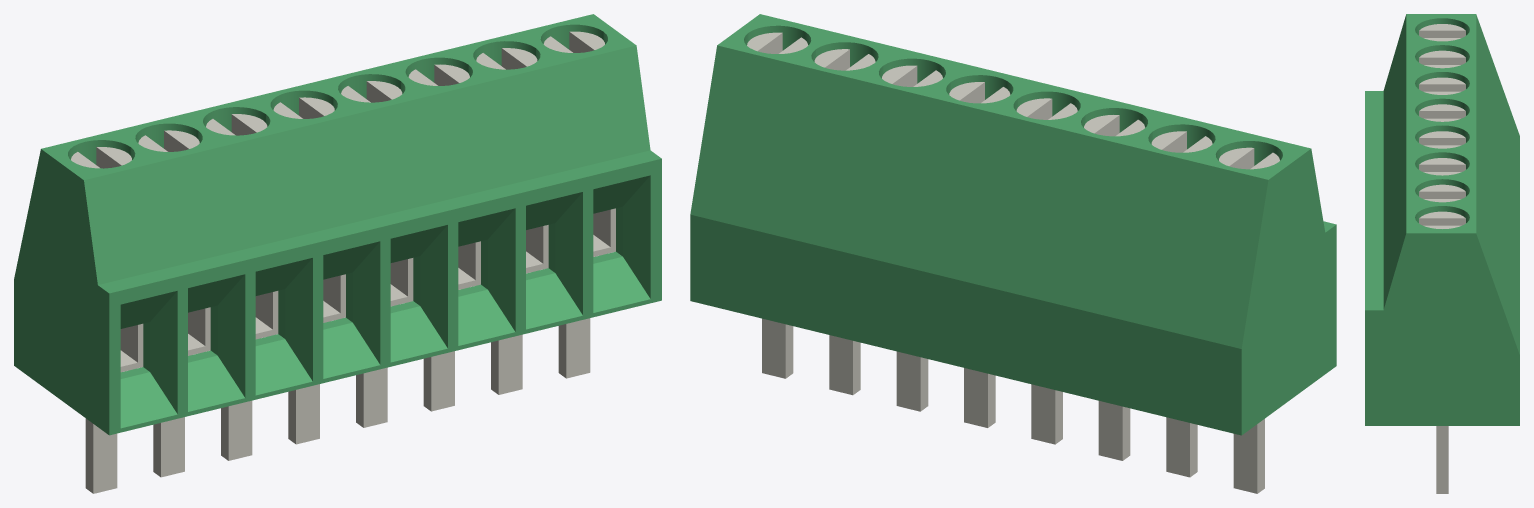
The model's file is kc-terminalblock_phoenix_mpt-0_5-8-2.54_1x08_p2.54mm_horizontal.glb.
The picture shows the model from 3 angles, left to right: view 1: azimuth 30°, elevation 25°; view 2: azimuth 150°, elevation 25°; view 3: azimuth 270°, elevation 25°; orthographic projection. The views are drawn at different scales.
Parts seen in each view (by area): view 1: 0.08333333333333333_0.4166666666666667_0.16666666666666666_0, 0.6666666666666666_0.6666666666666666_0.5833333333333334_0.8; view 2: 0.08333333333333333_0.4166666666666667_0.16666666666666666_0, 0.6666666666666666_0.6666666666666666_0.5833333333333334_0.8; view 3: 0.08333333333333333_0.4166666666666667_0.16666666666666666_0, 0.6666666666666666_0.6666666666666666_0.5833333333333334_0.8.
Boxes of the visible parts, x1,y1,x2,y2 form: 0.08333333333333333_0.4166666666666667_0.16666666666666666_0: [14, 14, 661, 435]; 0.6666666666666666_0.6666666666666666_0.5833333333333334_0.8: [71, 31, 615, 493]; 0.08333333333333333_0.4166666666666667_0.16666666666666666_0: [690, 14, 1336, 435]; 0.6666666666666666_0.6666666666666666_0.5833333333333334_0.8: [747, 32, 1279, 493]; 0.08333333333333333_0.4166666666666667_0.16666666666666666_0: [1365, 14, 1519, 425]; 0.6666666666666666_0.6666666666666666_0.5833333333333334_0.8: [1419, 24, 1465, 493].
Bounding box in the file's own units: 2.08 × 1.2 × 0.62.
